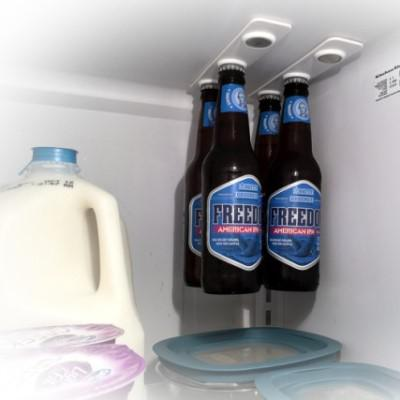beer: (183, 60, 324, 297)
